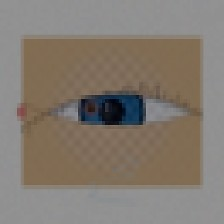foreign_body_visible: (27, 108, 67, 140)
